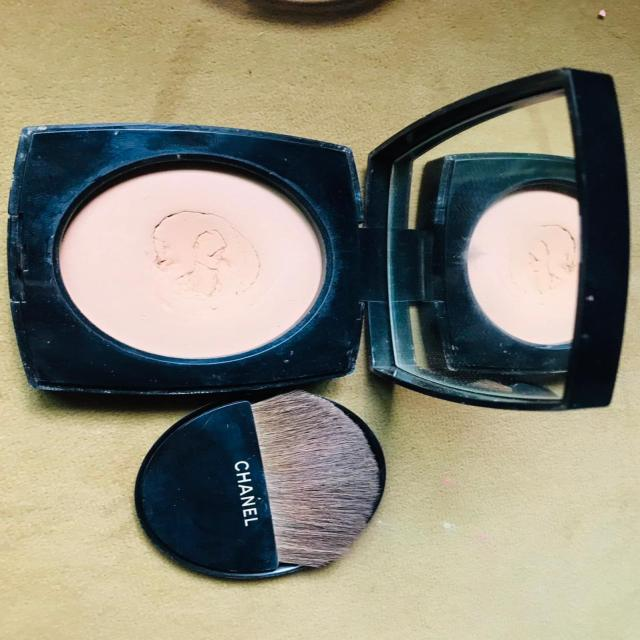brush: (129, 400, 434, 594)
powder: (12, 115, 370, 396)
